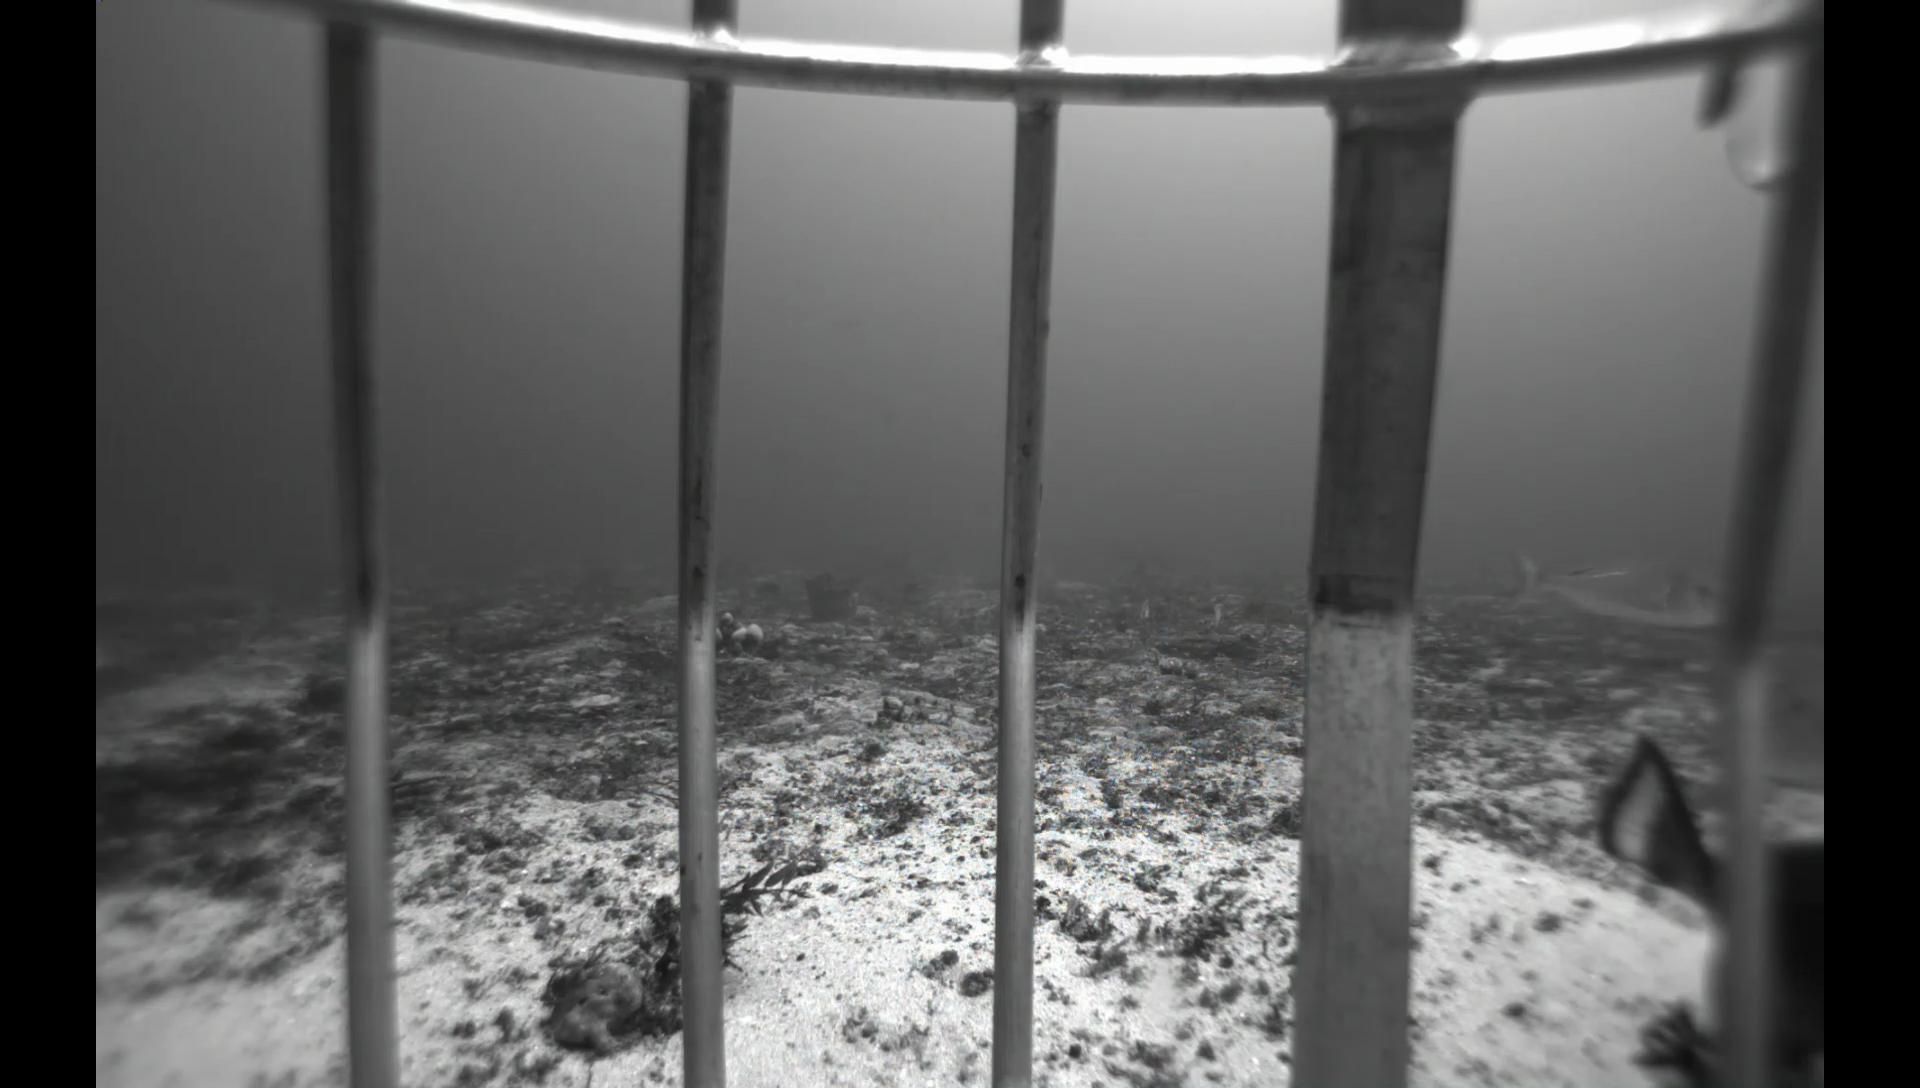CALAMUSNODOSUS-170210608: (1758, 641, 1822, 806)
CHAETODONOCELLATUS-170260307: (1204, 601, 1228, 630), (1134, 597, 1153, 621)
EPINEPHELUSMORIO-170021211: (1584, 733, 1825, 1087)
PAGRUSPAGRUS-170212302: (1507, 543, 1727, 636)
PRISTIGENYSALTA-170050401: (294, 677, 347, 715)
